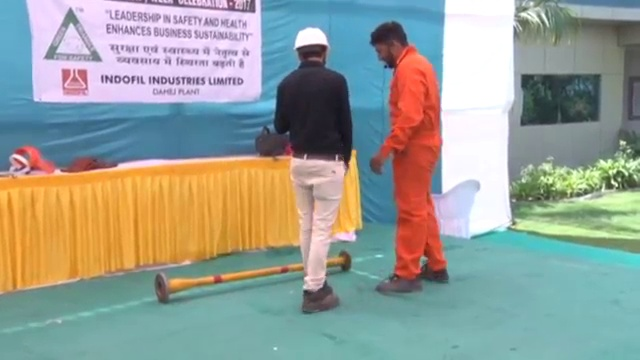helmet: (293, 24, 332, 53)
helmet_off: (367, 18, 413, 69)
helmet_on: (290, 23, 334, 69)
person: (362, 18, 452, 293), (273, 23, 352, 316)
